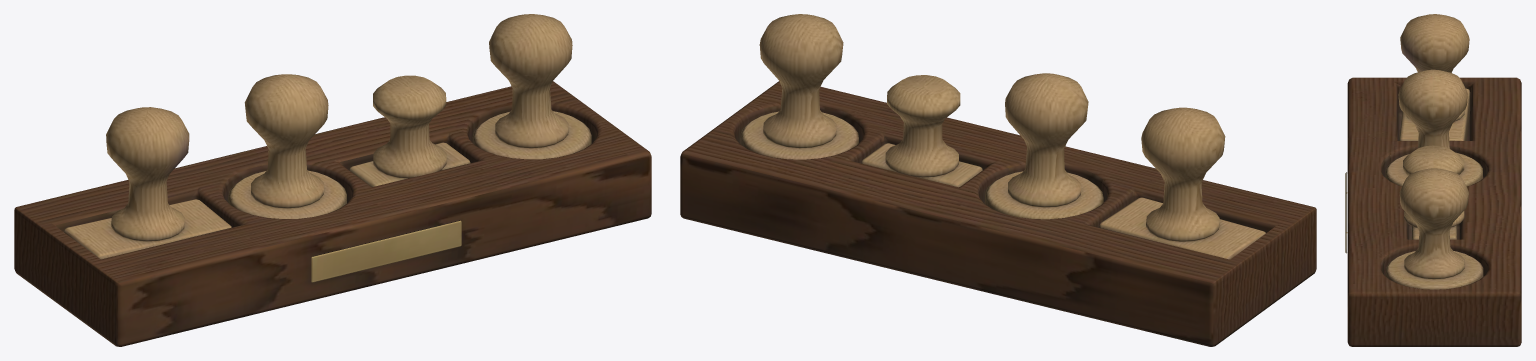
The model's file is stamp-rack.glb.
3 views of the same model, side by side, from view 1: azimuth 30°, elevation 25°; view 2: azimuth 150°, elevation 25°; view 3: azimuth 270°, elevation 25° (orthographic). The views are drawn at different scales.
Visible parts, largest first — view 1: rack, stamp_1, stamp_4, stamp_2, stamp_3; view 2: rack, stamp_1, stamp_2, stamp_4, stamp_3; view 3: rack, stamp_4, stamp_2, stamp_1, stamp_3.
Part boxes in pixels (x1,y1,x2,y2): rack: (14,81,651,346); stamp_1: (64,107,231,259); stamp_4: (472,14,591,159); stamp_2: (228,74,346,218); stamp_3: (349,75,470,186); rack: (680,81,1316,346); stamp_1: (1099,107,1265,259); stamp_2: (984,73,1103,219); stamp_4: (740,14,858,159); stamp_3: (861,75,982,187); rack: (1345,77,1521,346); stamp_4: (1385,168,1483,289); stamp_2: (1385,69,1483,186); stamp_1: (1399,14,1470,140); stamp_3: (1403,145,1464,239).
Bounding box in the file's own units: 0.25 × 0.0803 × 0.0862.
Materials: 1 (1 with a texture image).
